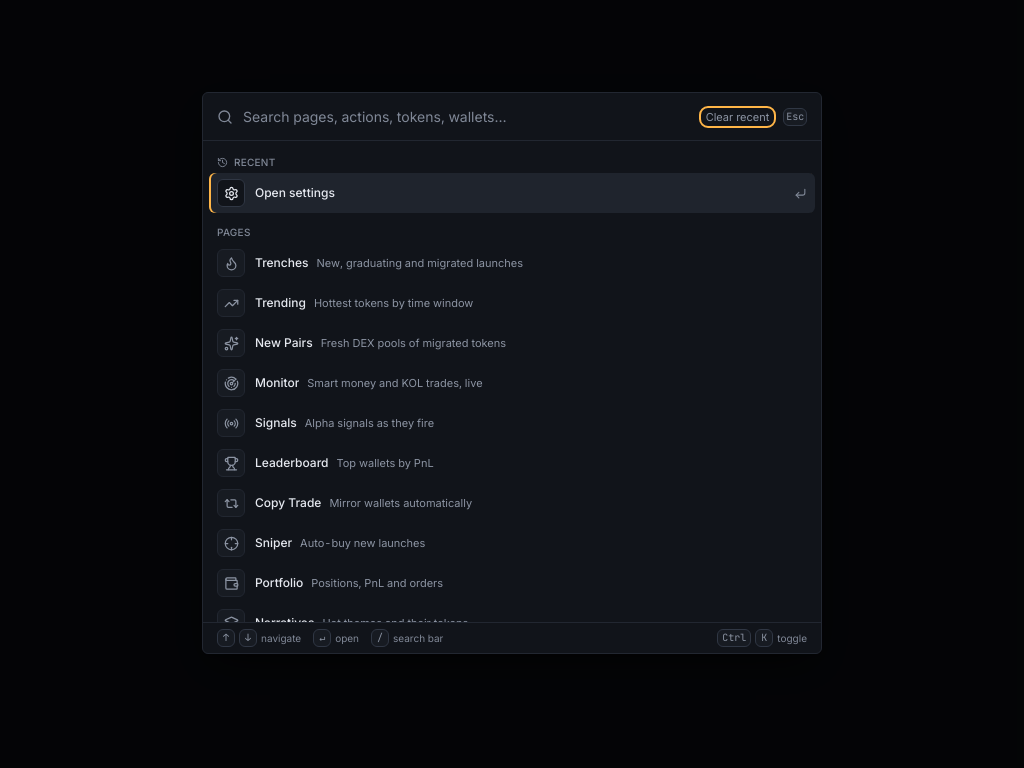
it: command palette listbox › keeps focus in the search field when Clear recent removes itself
Click the button "Clear recent".
click(737, 117)  # box 702,109 -> 773,125
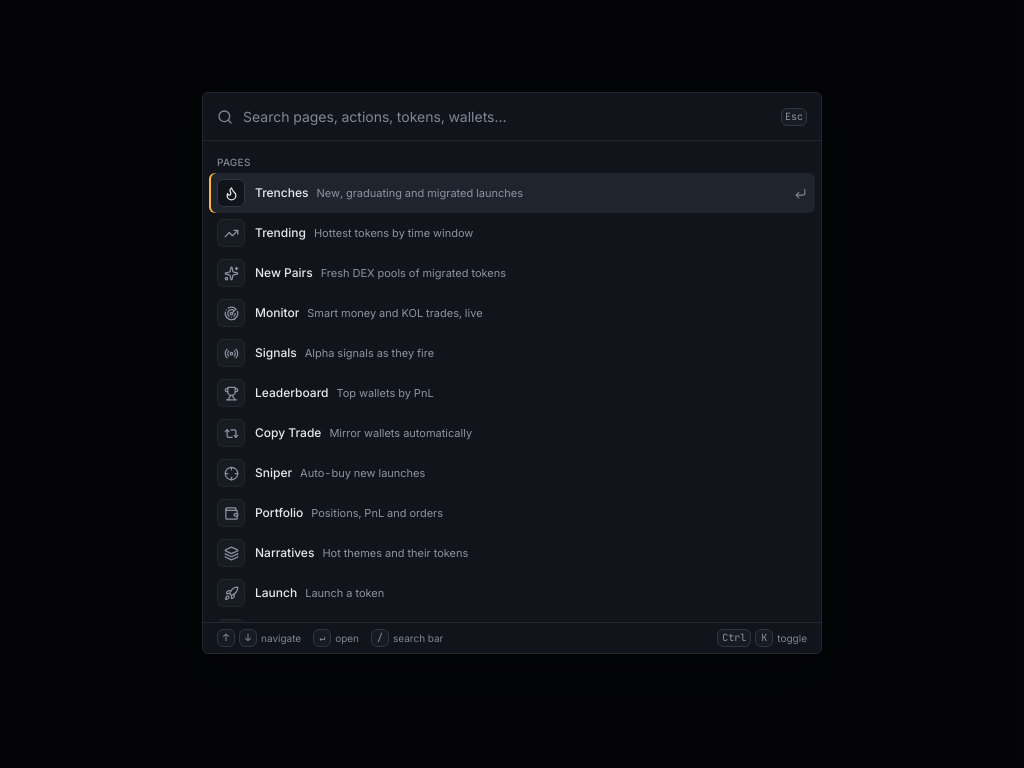
Now the button "Clear recent" is gone
